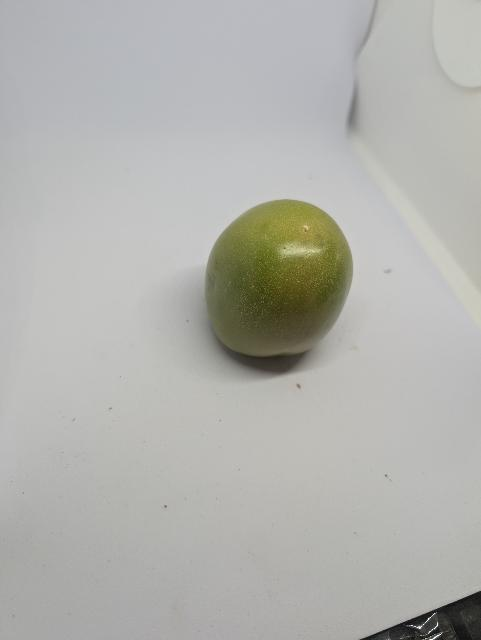green: (203, 198, 357, 360)
